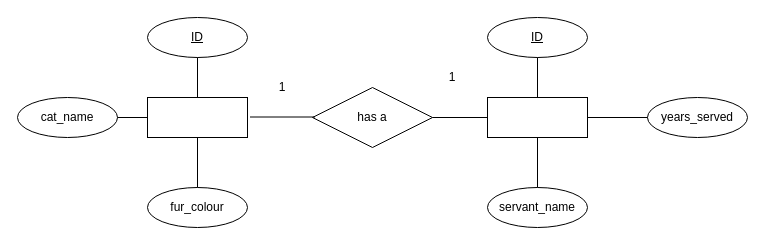
This 765x245 diagram has some shape labels left out. The centre of each missing label's shape, as x and y in pixels:
"cats" goes at (x=197, y=117).
"servants" goes at (x=537, y=117).
